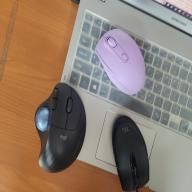mouse: (34, 82, 87, 174), (94, 27, 146, 94), (110, 112, 151, 192)
